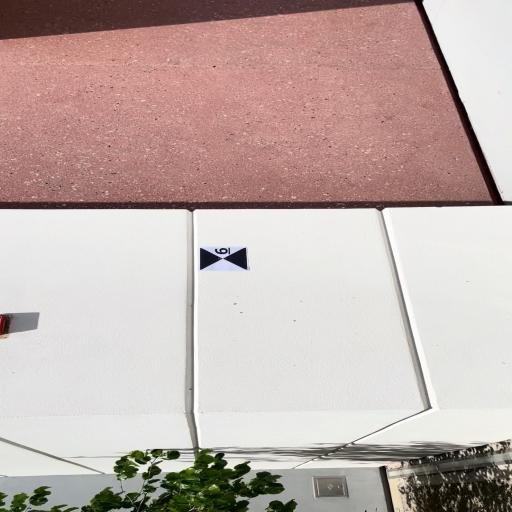target6: (200, 245, 249, 271)
